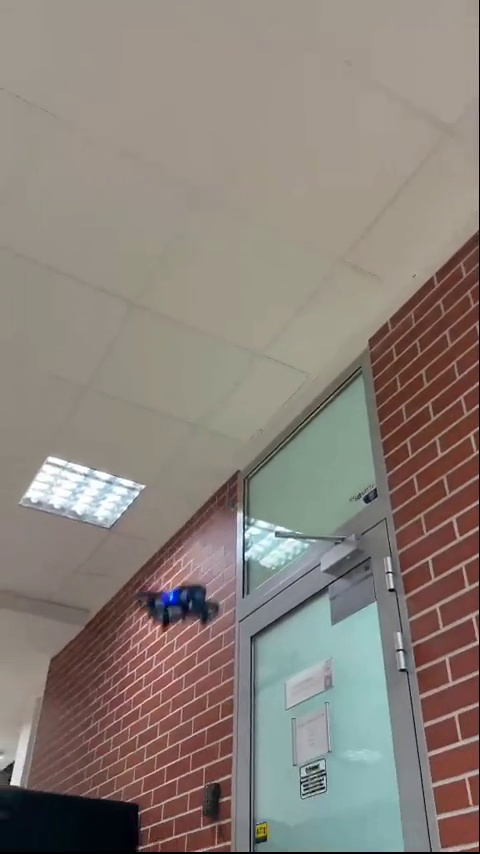drone: (137, 584, 219, 629)
